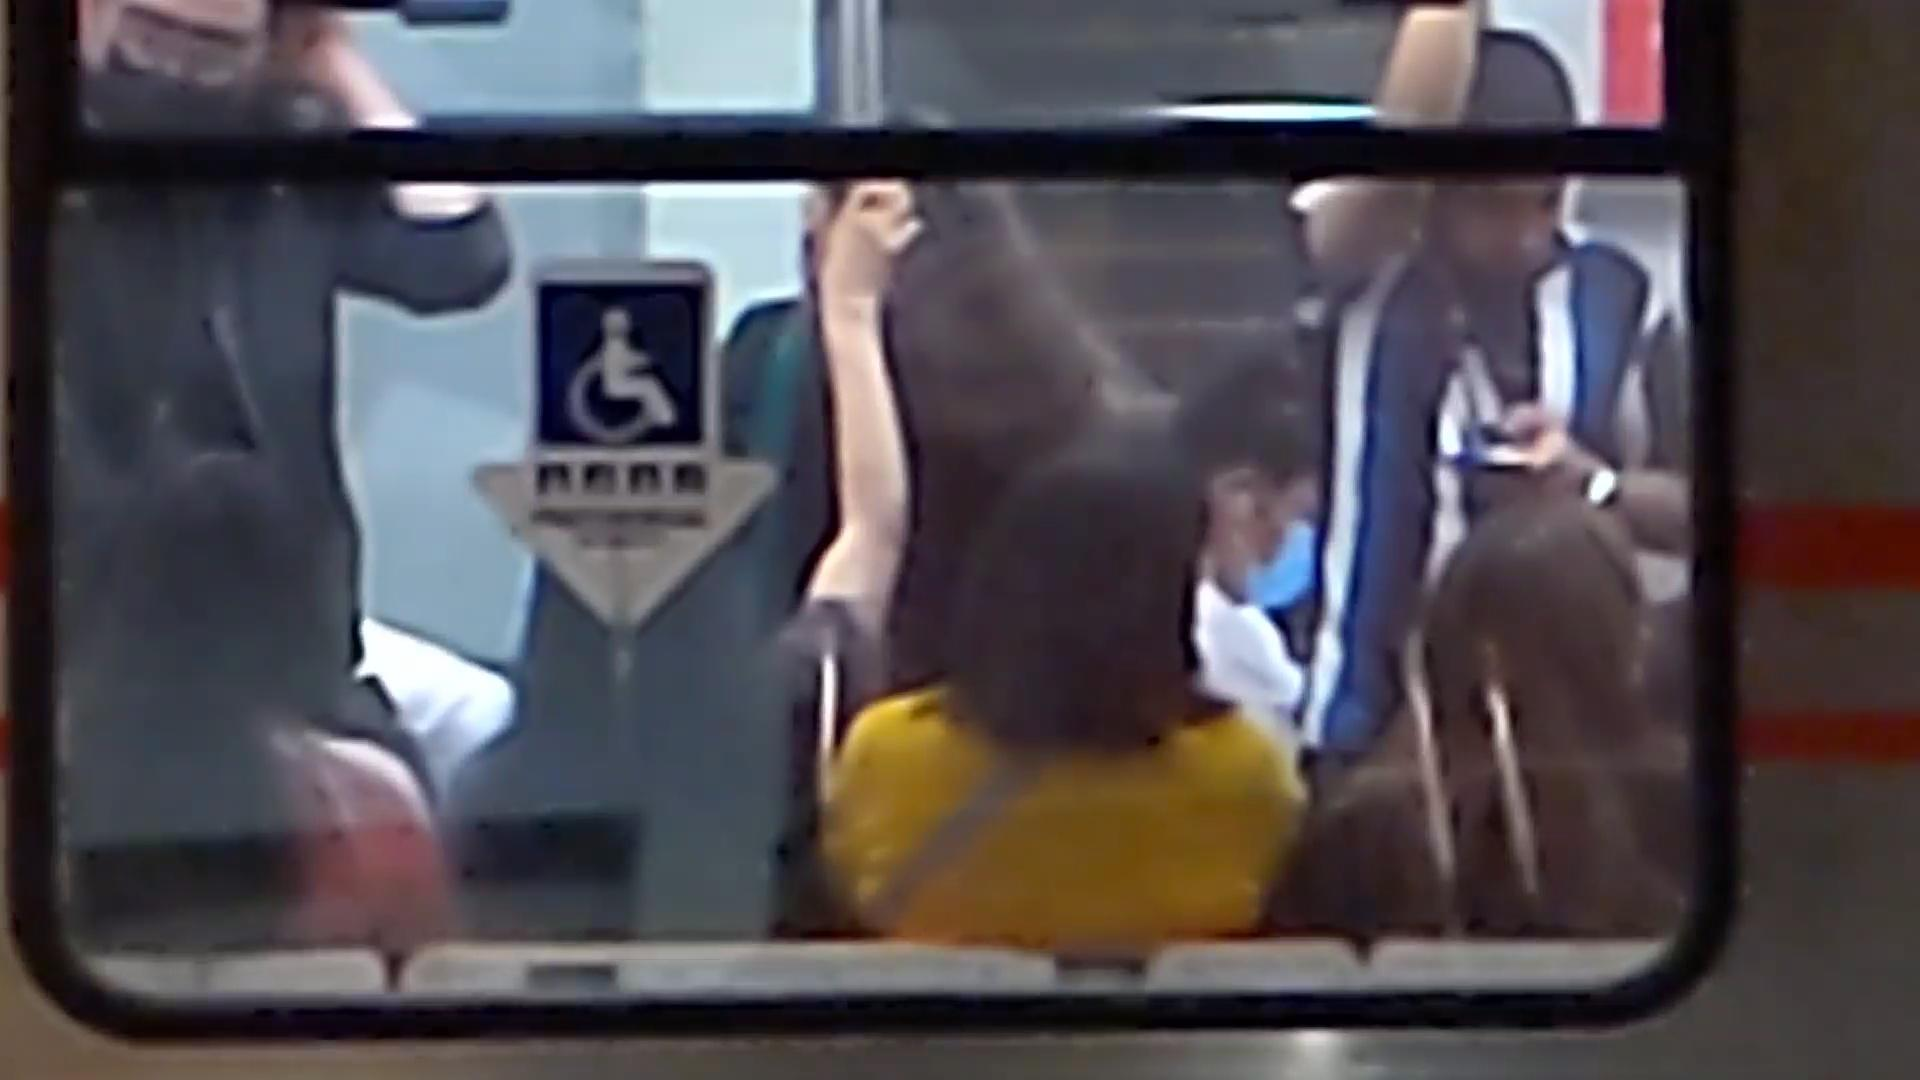handicapped symbol: (562, 303, 679, 450)
